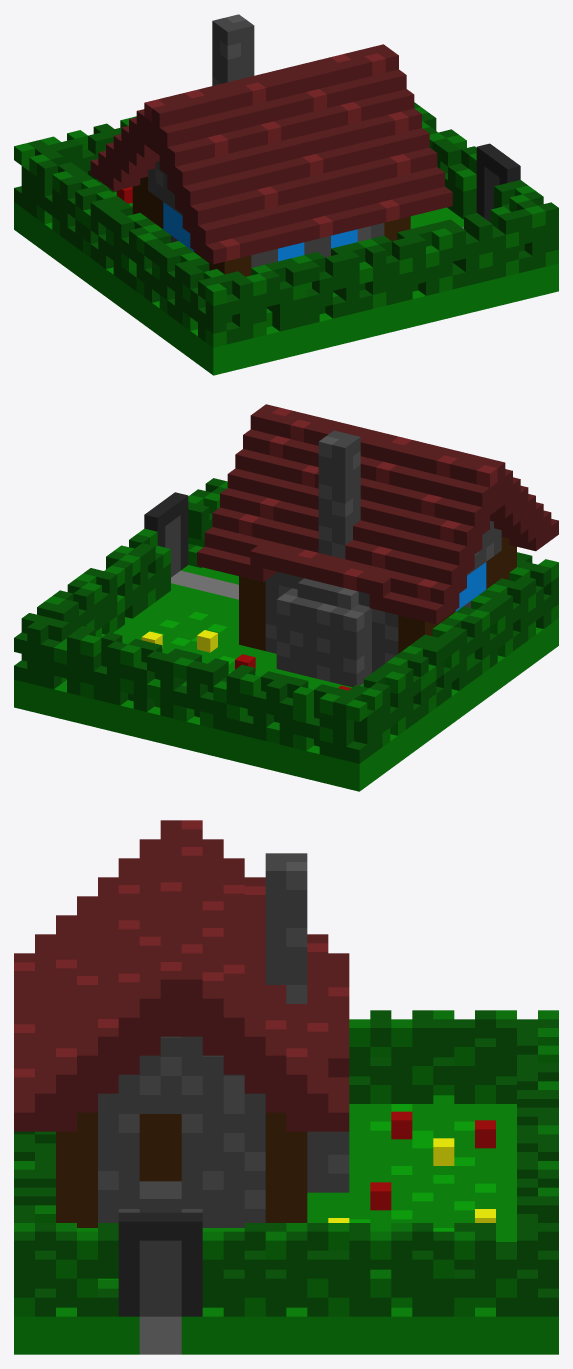
File: house1.obj
The picture shows the model from 3 angles, top to bottom: view 1: azimuth 30°, elevation 25°; view 2: azimuth 150°, elevation 25°; view 3: azimuth 270°, elevation 25°; orthographic projection. The views are drawn at different scales.
Size of the model in its own units: 2.6 by 1.8 by 2.6.
Materials: 1 (1 with a texture image).
